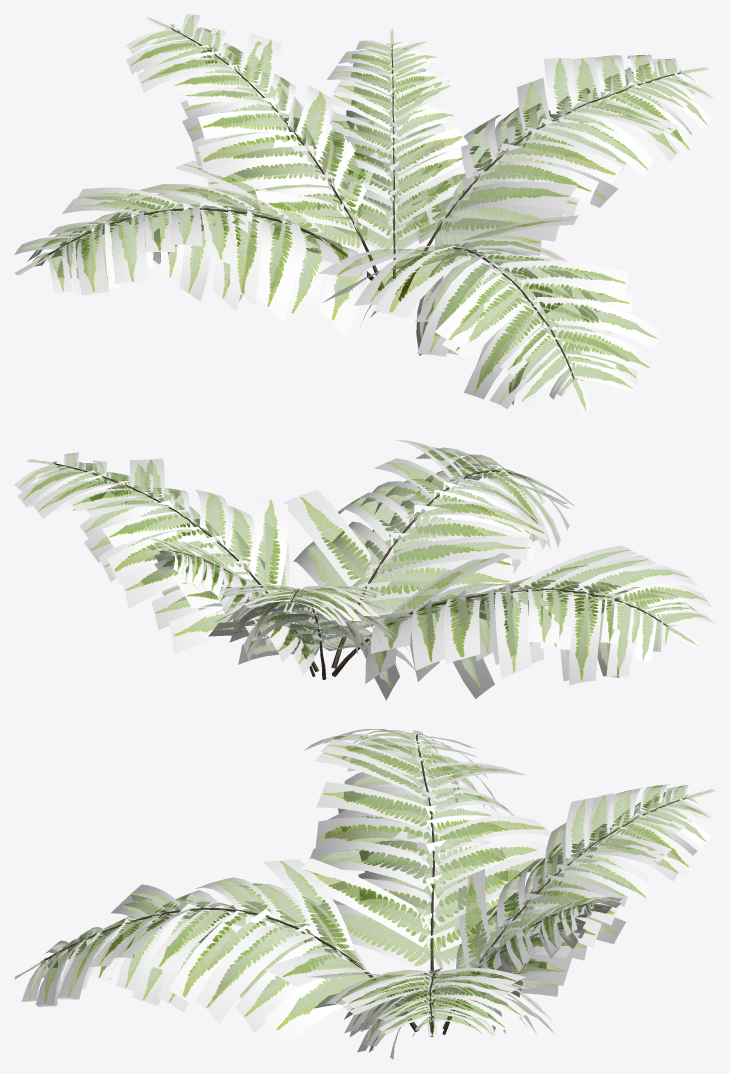
Rendered from preview.glb.
The picture shows the model from 3 angles, top to bottom: view 1: azimuth 30°, elevation 25°; view 2: azimuth 150°, elevation 25°; view 3: azimuth 270°, elevation 25°; orthographic projection. The views are drawn at different scales.
Parts seen in each view (by area): view 1: Plant_Dryopteris_carthusiana_E_Leaf_glb, Plant_Dryopteris_carthusiana_E_Stem_glb; view 2: Plant_Dryopteris_carthusiana_E_Leaf_glb, Plant_Dryopteris_carthusiana_E_Stem_glb; view 3: Plant_Dryopteris_carthusiana_E_Leaf_glb, Plant_Dryopteris_carthusiana_E_Stem_glb.
Part boxes in pixels (x1=…): Plant_Dryopteris_carthusiana_E_Leaf_glb: x1=14, y1=14, x2=715, y2=411; Plant_Dryopteris_carthusiana_E_Stem_glb: x1=47, y1=28, x2=680, y2=378; Plant_Dryopteris_carthusiana_E_Leaf_glb: x1=14, y1=440, x2=715, y2=700; Plant_Dryopteris_carthusiana_E_Stem_glb: x1=54, y1=463, x2=667, y2=679; Plant_Dryopteris_carthusiana_E_Leaf_glb: x1=14, y1=729, x2=715, y2=1059; Plant_Dryopteris_carthusiana_E_Stem_glb: x1=45, y1=734, x2=686, y2=1036.
Bounding box in the file's own units: 1.55 × 0.4163 × 1.37.
2 materials, 2 textured.
